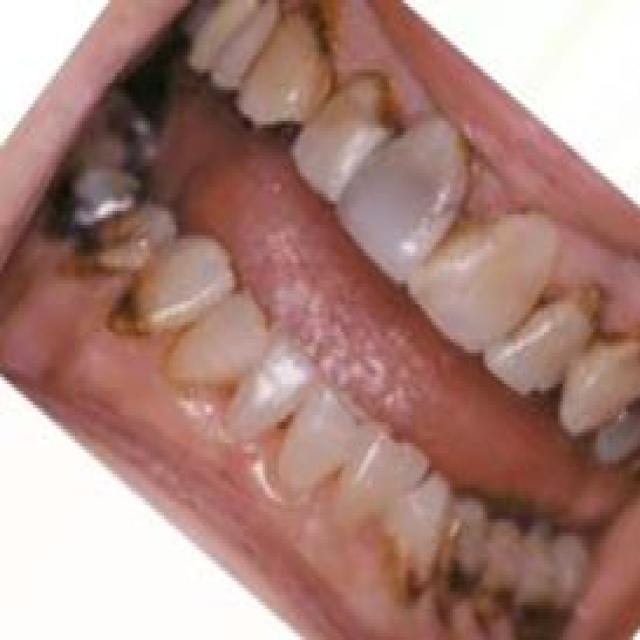caries: (355, 58, 409, 146), (381, 529, 434, 613), (98, 280, 152, 359), (287, 0, 343, 69), (60, 214, 107, 290), (434, 544, 479, 623), (477, 564, 516, 640), (516, 581, 565, 640)
